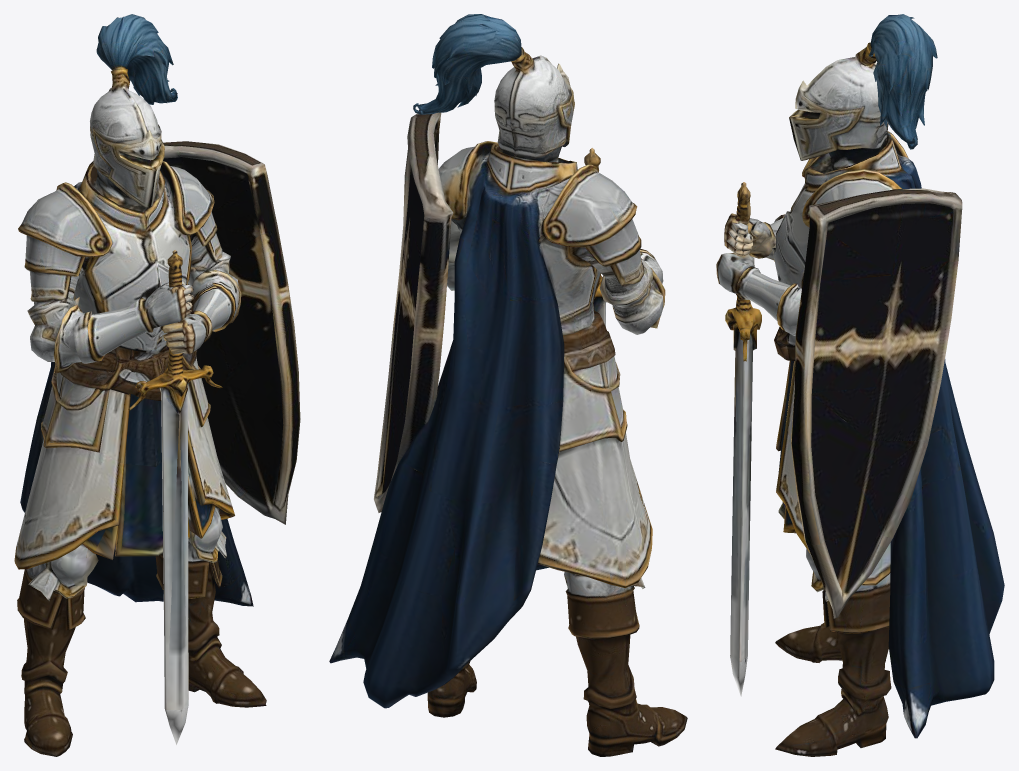
The model's file is signore.glb.
3 views of the same model, side by side, from view 1: azimuth 30°, elevation 25°; view 2: azimuth 150°, elevation 25°; view 3: azimuth 270°, elevation 25° (orthographic). The views are drawn at different scales.
Bounding box in the file's own units: 0.4053 × 0.9517 × 0.3569.
Materials: 1 (1 with a texture image).
